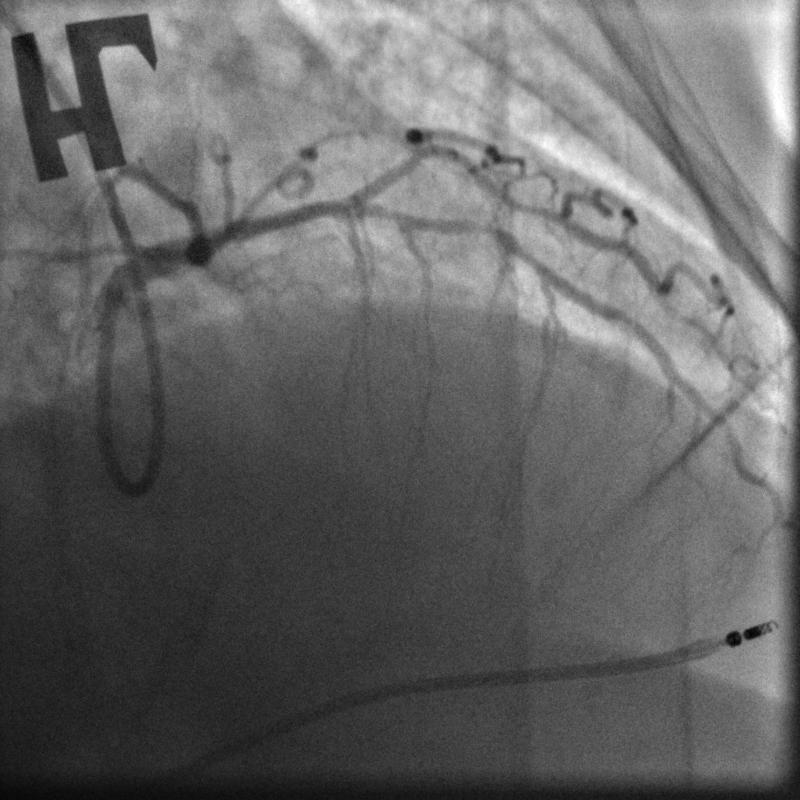Stenosis: (456, 211, 522, 250)
